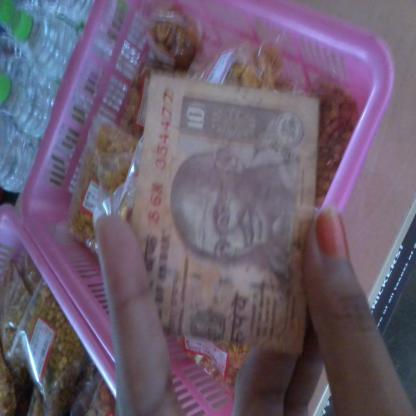Old10Front: (132, 75, 320, 356)
